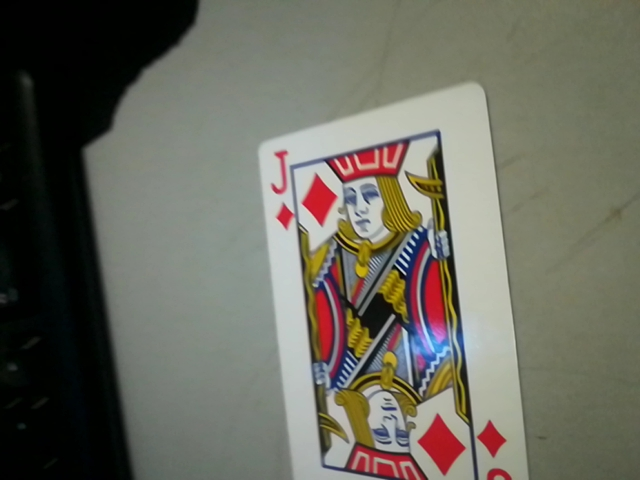fk j: (260, 145, 300, 230)
